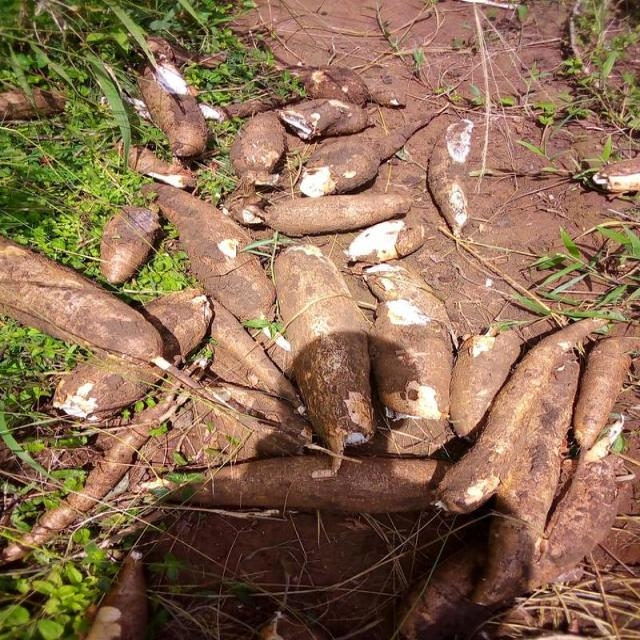cassava leaf: (272, 241, 376, 475)
